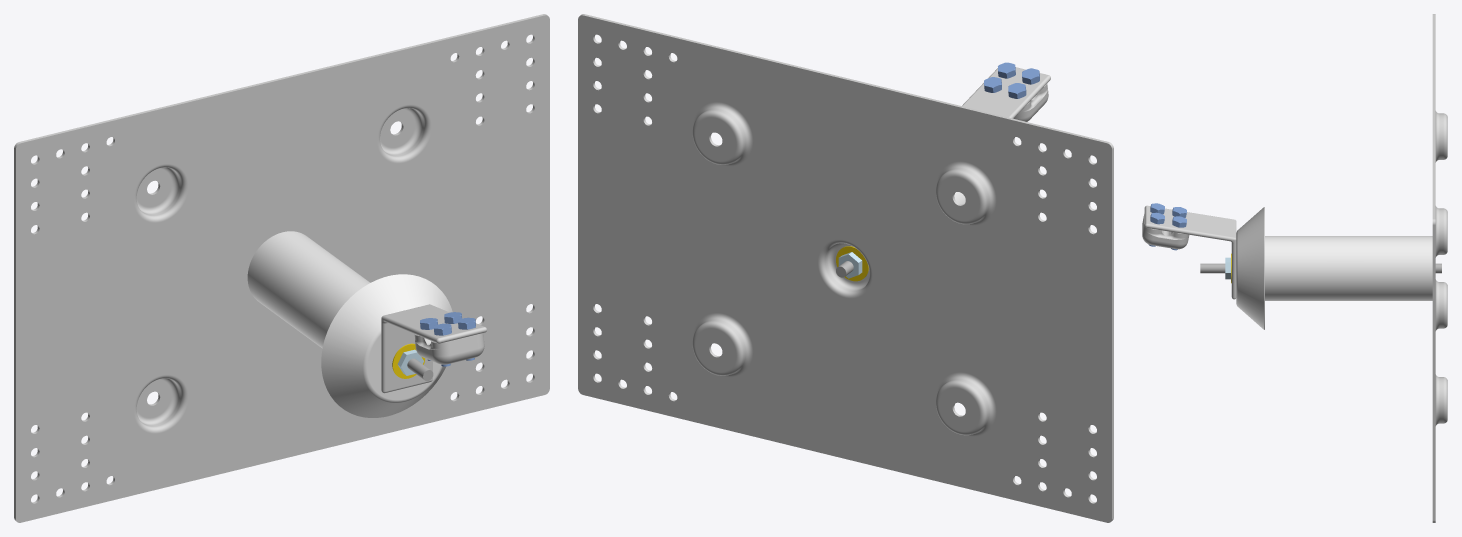
The model's file is PB_HOOKT.glb.
3 views of the same model, side by side, from view 1: azimuth 30°, elevation 25°; view 2: azimuth 150°, elevation 25°; view 3: azimuth 270°, elevation 25° (orthographic). The views are drawn at different scales.
Parts seen in each view (by area): view 1: PB_Hookt, collerette, tube, INOX_LightPro, 20220216_MAC_I; view 2: PB_Hookt, INOX_LightPro; view 3: tube, PB_Hookt, collerette, INOX_LightPro, 20220216_MAC_I, tige.
Part boxes in pixels (x1,y1,x2,y2): PB_Hookt: [14, 14, 549, 522]; collerette: [321, 274, 452, 417]; tube: [247, 231, 370, 348]; INOX_LightPro: [381, 304, 486, 393]; 20220216_MAC_I: [414, 333, 484, 364]; PB_Hookt: [578, 14, 1113, 522]; INOX_LightPro: [962, 67, 1050, 118]; tube: [1265, 236, 1432, 300]; PB_Hookt: [1432, 14, 1447, 522]; collerette: [1236, 207, 1264, 329]; INOX_LightPro: [1144, 205, 1236, 299]; 20220216_MAC_I: [1142, 213, 1189, 249]; tige: [1200, 263, 1441, 273].
Size of the model in its own units: 0.53 by 0.36 by 0.3282.
